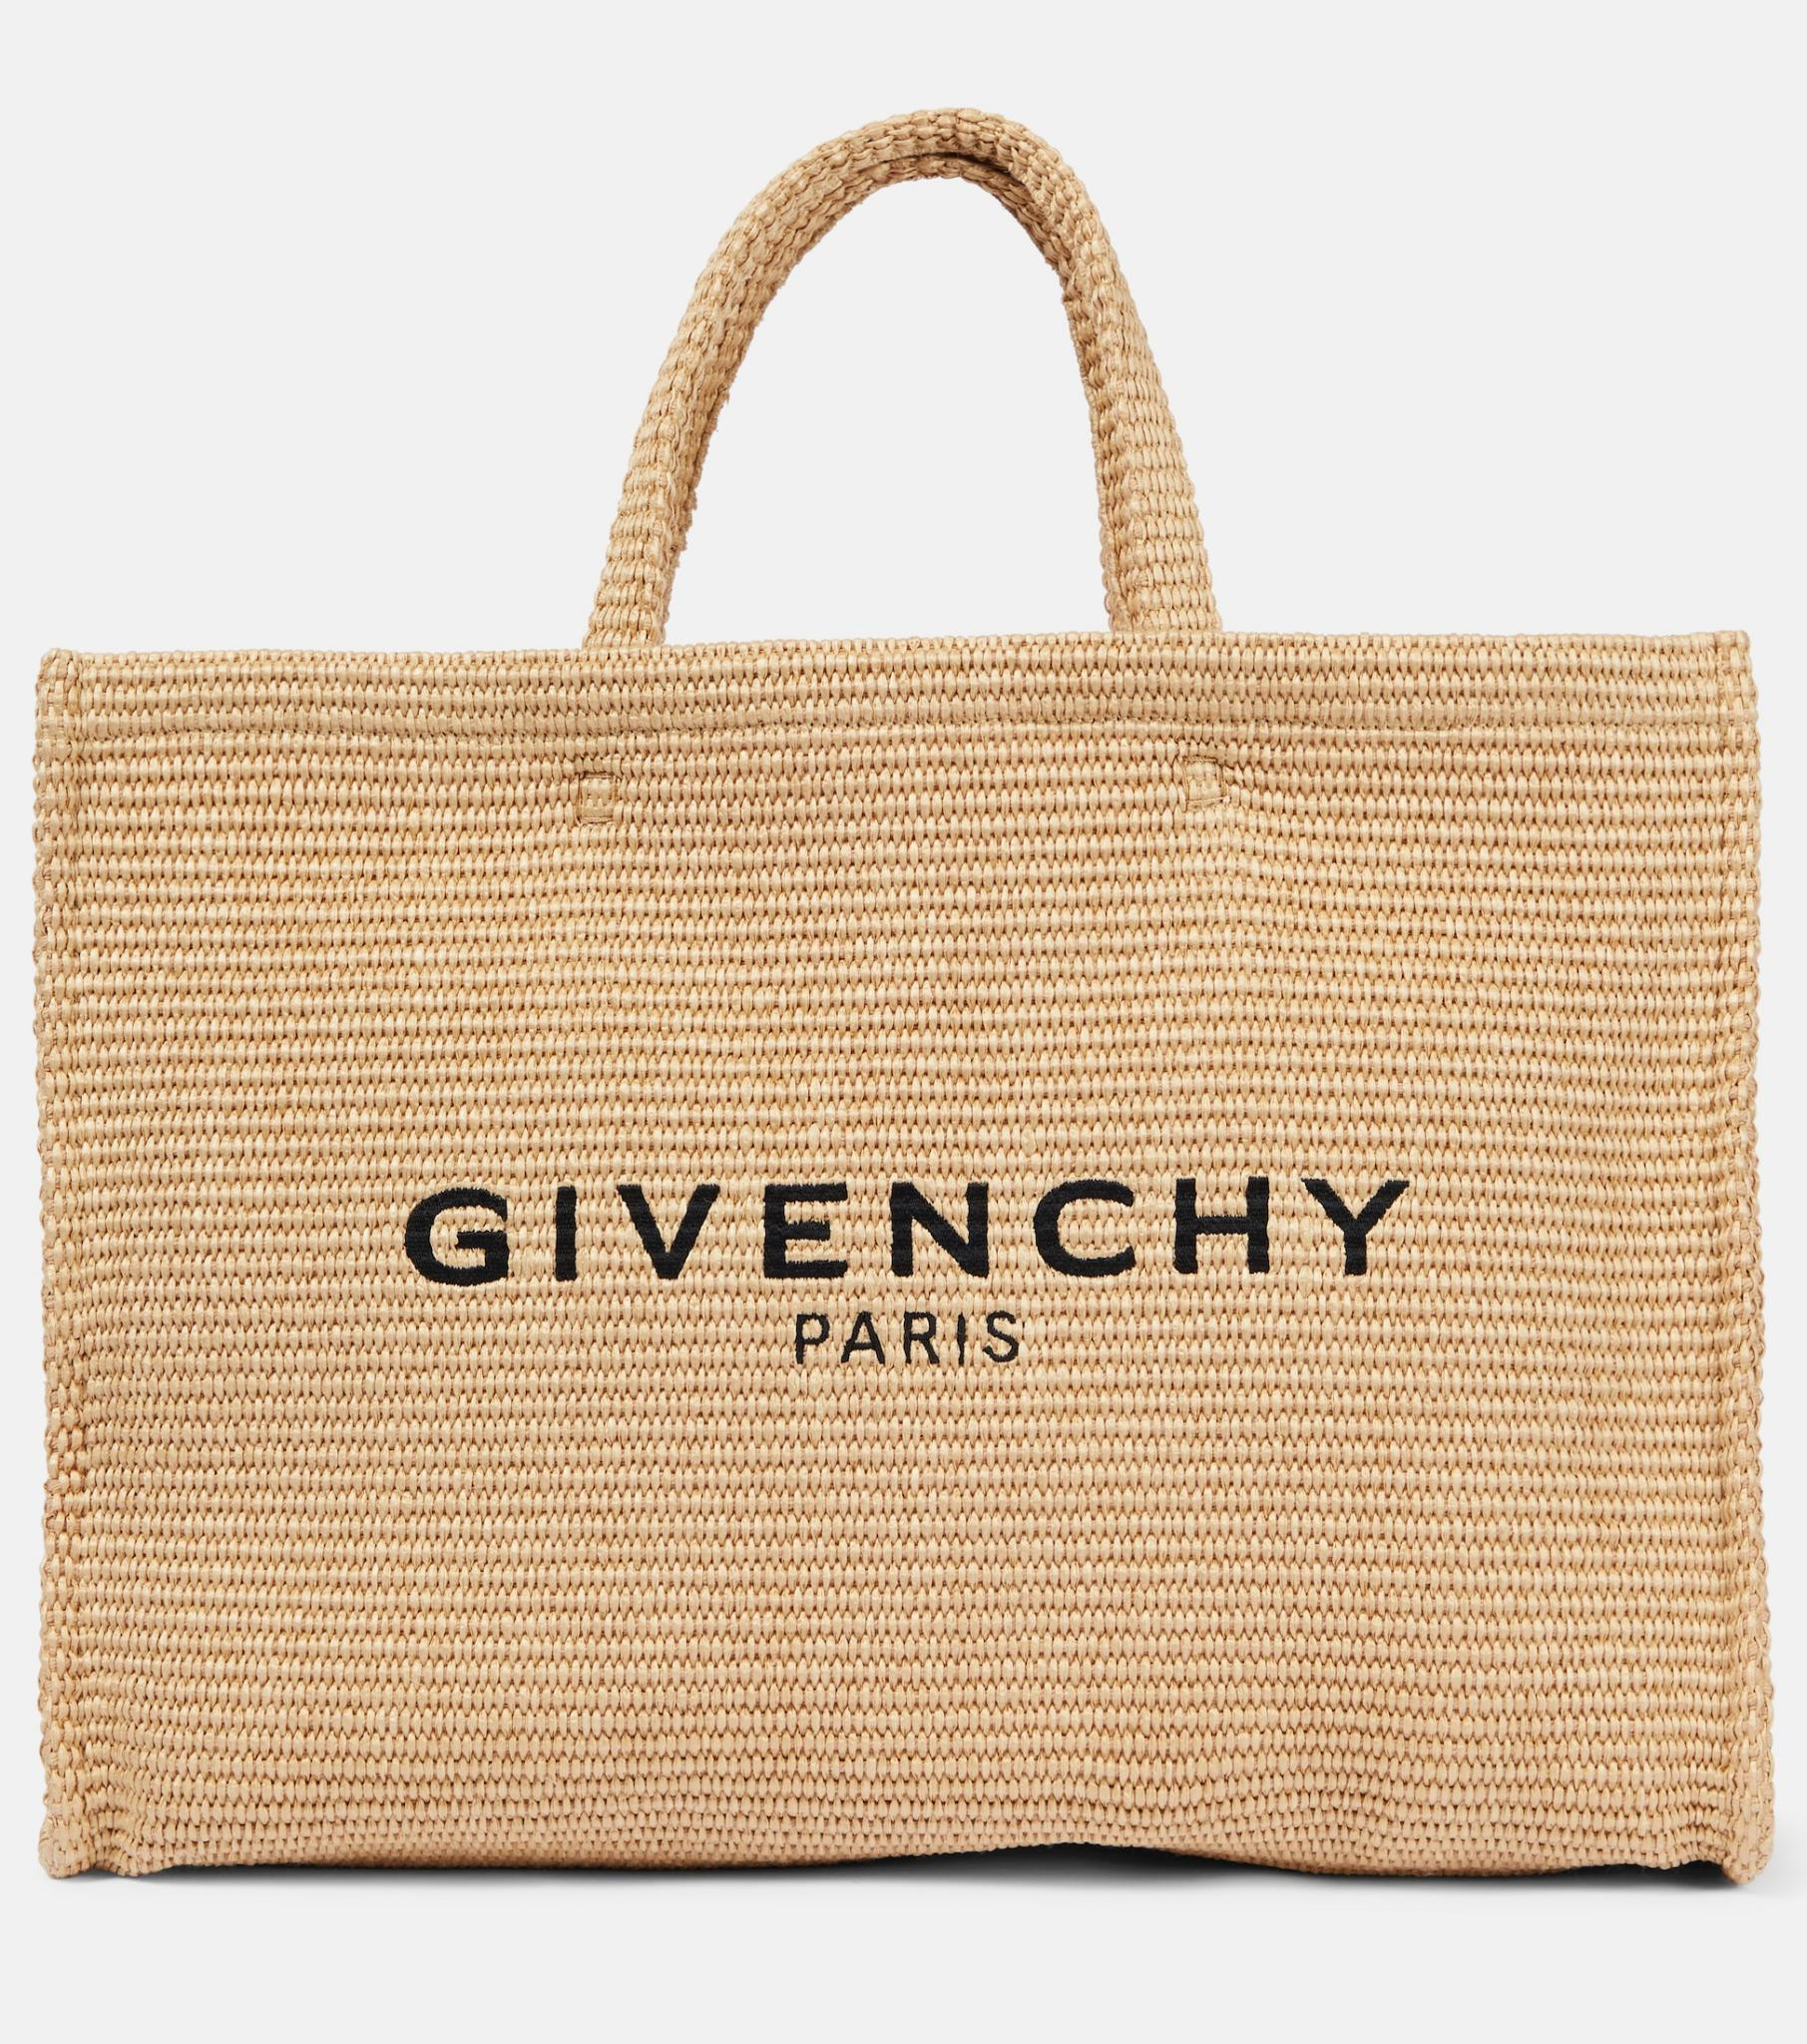GIVENCHY: (373, 1099, 1430, 1313)
